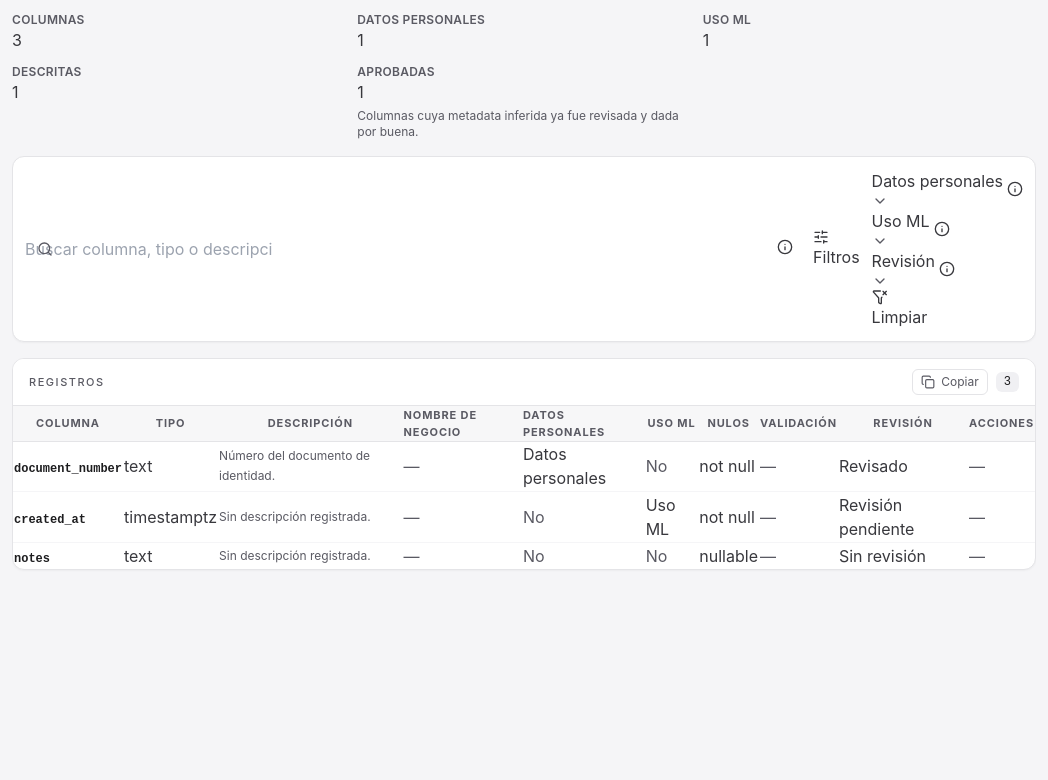
Columnas de una tabla del catálogo › el buscador y los filtros recortan las filas, y sin coincidencias lo dicen
In the field labelled "Buscar columna, tipo o descripción...": [149, 249] box [25,237,273,261], type "documento"
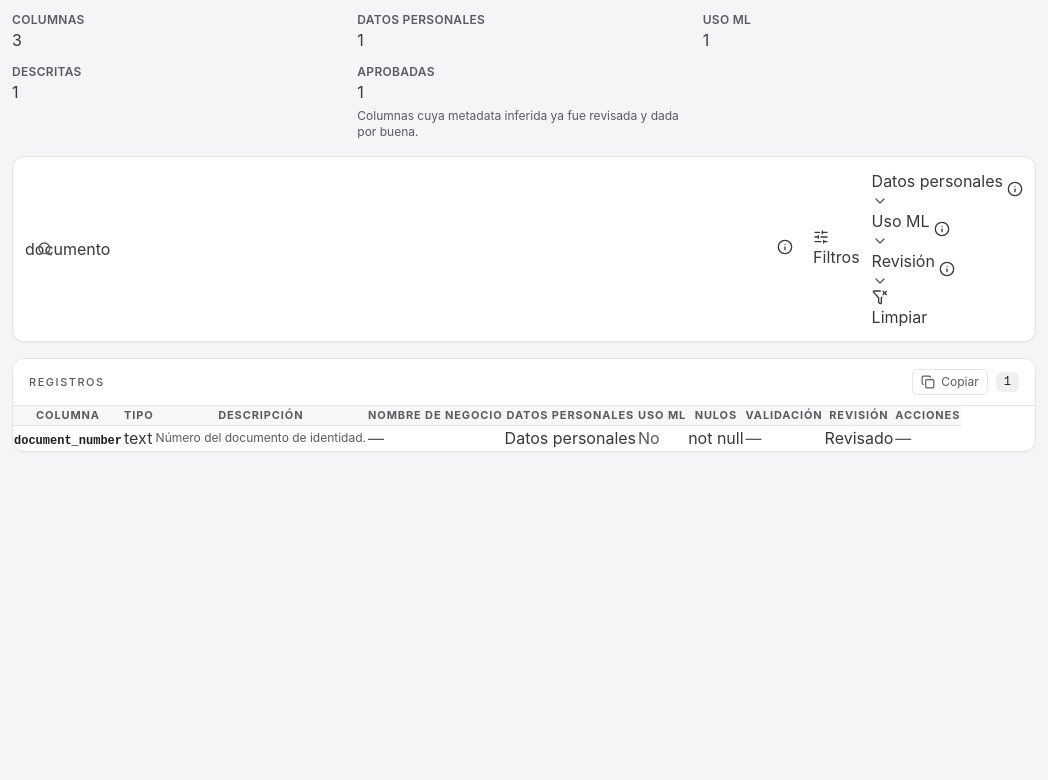
Expected: the number of rows is 2, [13,406,961,424]; [13,424,961,450]
Clear the field named "Buscar columna": [149, 249] box [25,237,273,261]
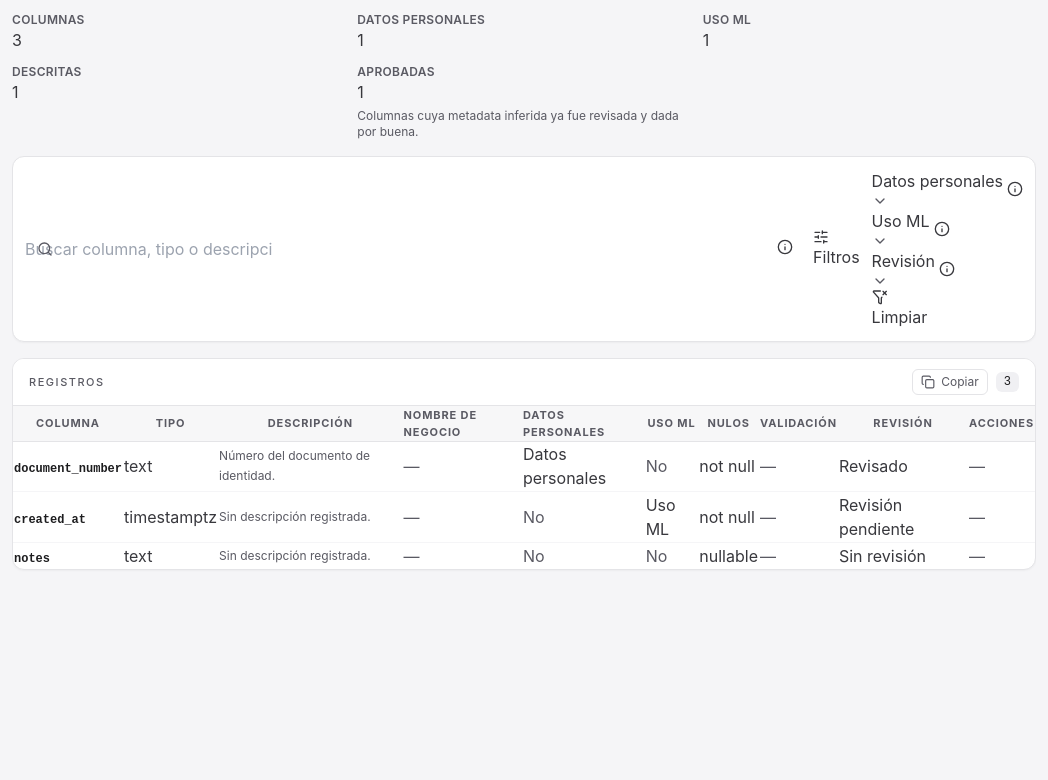
Expected: the number of rows is 4, [13,406,1035,441]; [13,441,1035,492]; [13,492,1035,542]; [13,542,1035,569]
Click the dropdown labelled "Uso ML": [901, 229] box [872,209,930,249]
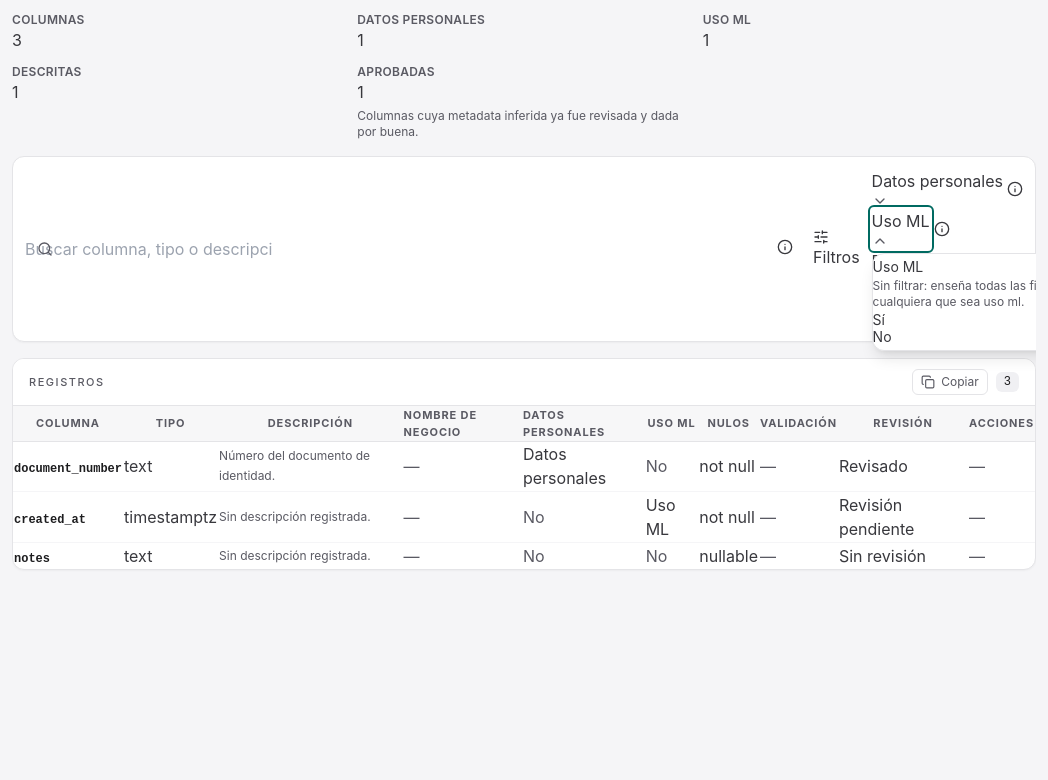
Click the option "Sí": [879, 319] box [873,310,885,328]
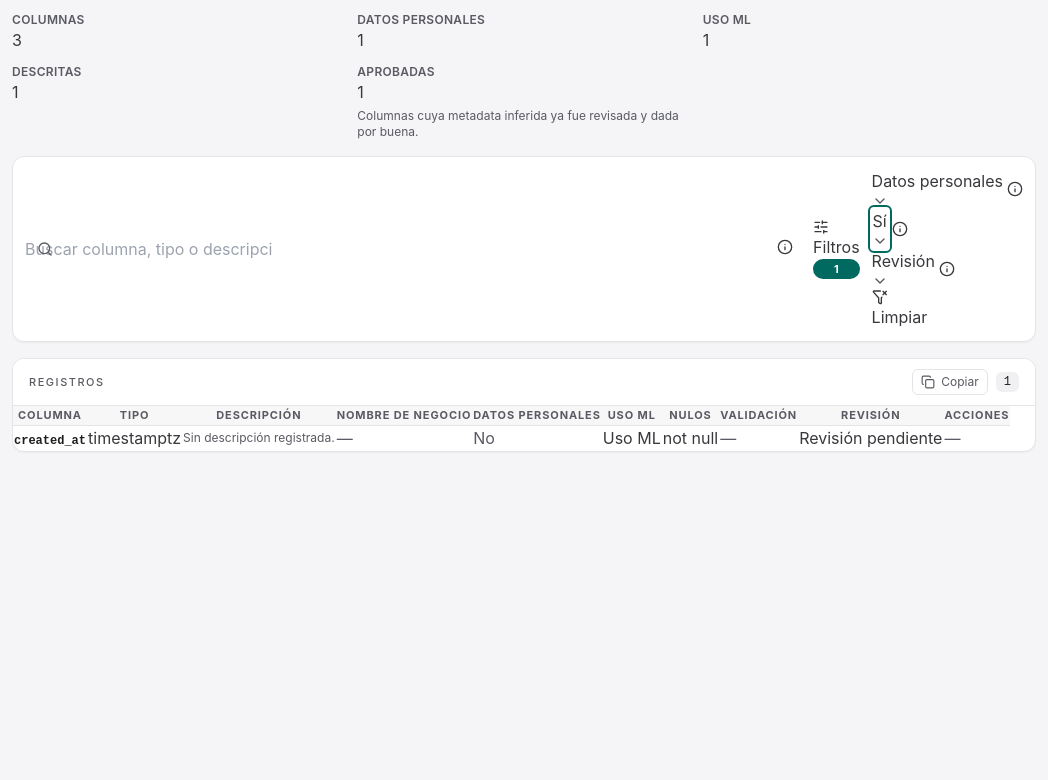
Expected: the number of rows is 2, [13,406,1010,424]; [13,424,1010,450]
Now the text "created_at" is shown, box [14,434,86,448]
In the field labelled "Buscar columna, tipo o descripción...": [149, 249] box [25,237,273,261], type "zzz"
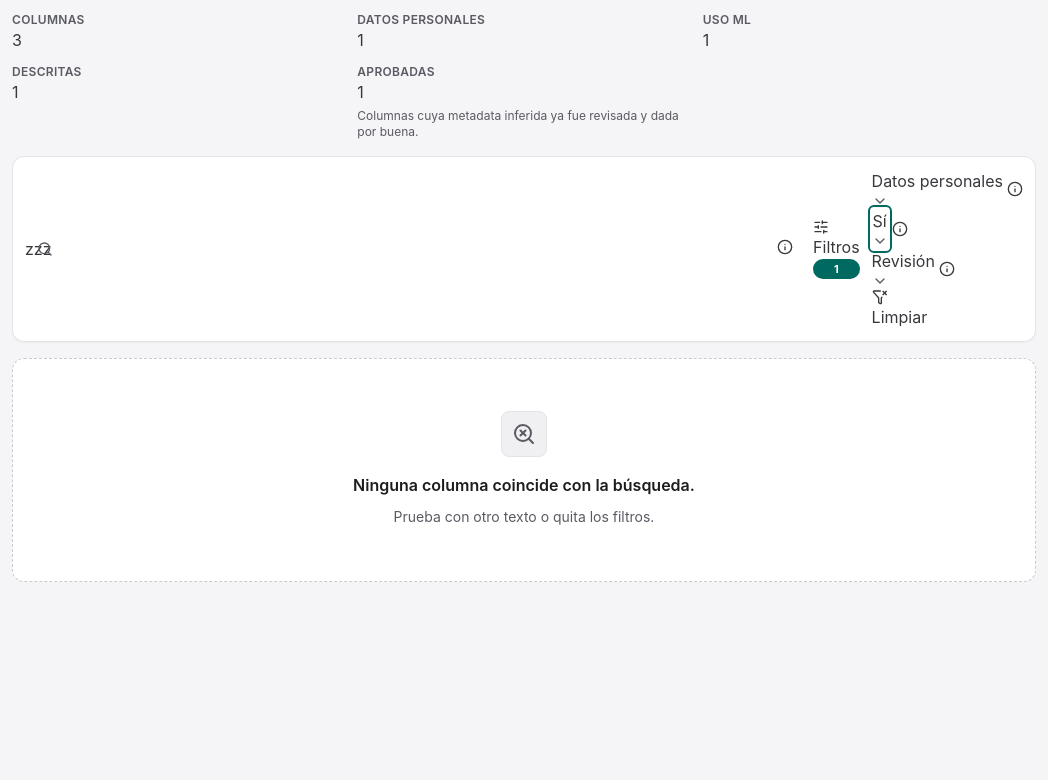
Now the heading "Ninguna columna coincide con la búsqueda." is shown, box [353,473,695,497]
